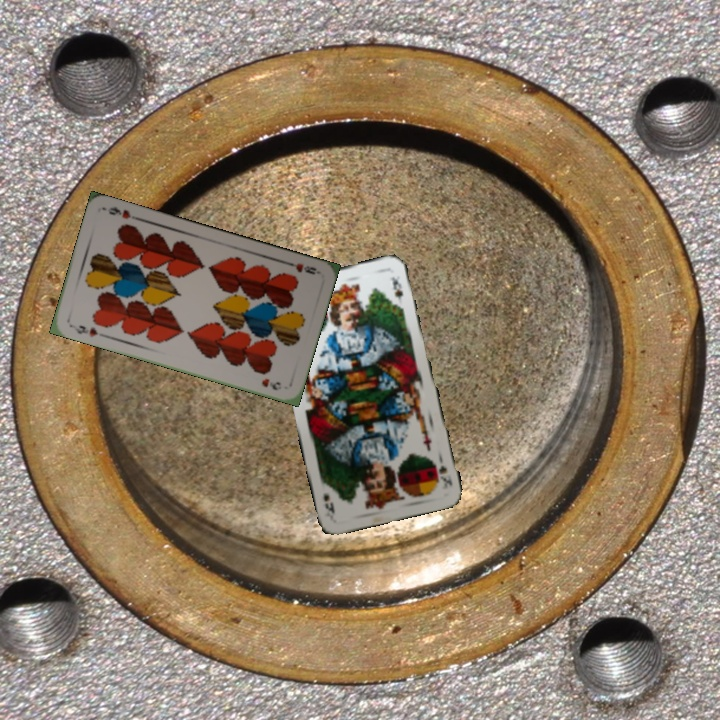H9: (282, 257, 322, 277), (66, 320, 100, 340)
SK: (435, 451, 455, 492)
